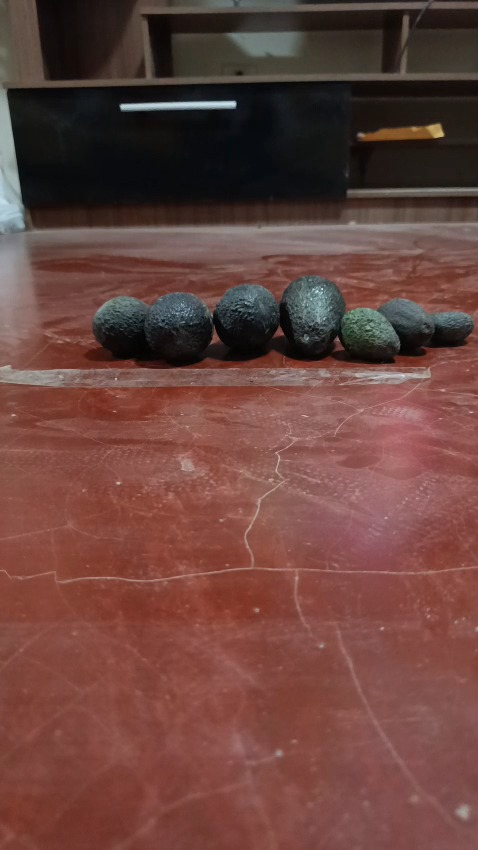Primera: (278, 274, 345, 358), (143, 291, 213, 364), (213, 283, 280, 354), (91, 295, 151, 357)
Segunda: (339, 306, 400, 361), (376, 297, 434, 353)
Tercera: (429, 311, 473, 346)
